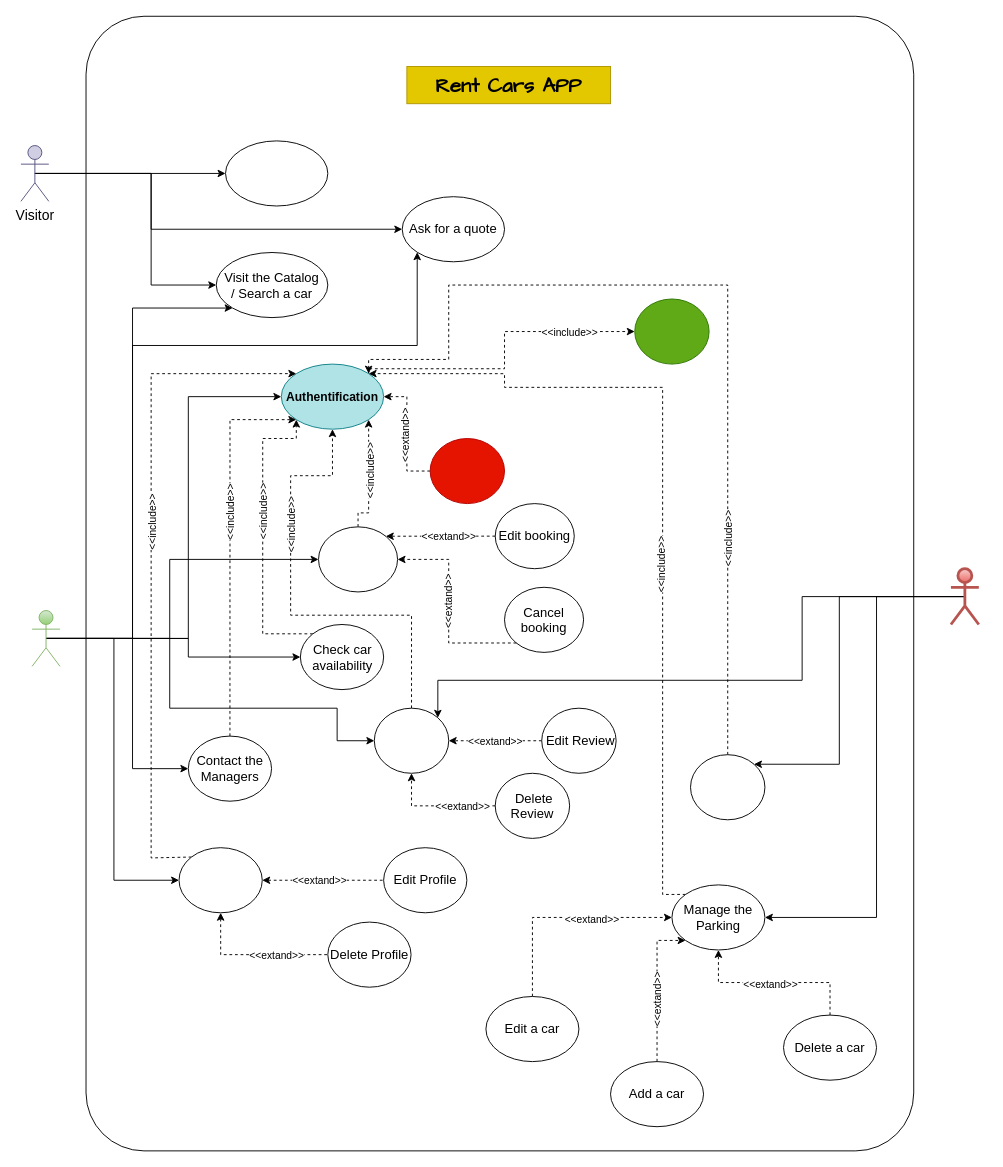
The diagram is 1003 pixels wide and 1167 high, and some of its shapes have lost their labels. Here are the shapes that lost their labels. From the top down, the box of each, then its label:
(225, 140, 328, 206): Create an Account
(634, 298, 709, 364): Verify username / pwd
(429, 438, 505, 504): login error
(318, 526, 398, 592): Book a car
(949, 567, 980, 625): ADMIN
(31, 610, 60, 666): User
(373, 707, 449, 773): Post Reviews
(690, 754, 765, 820): Ban / Delete User
(178, 847, 262, 913): Manage Profile
